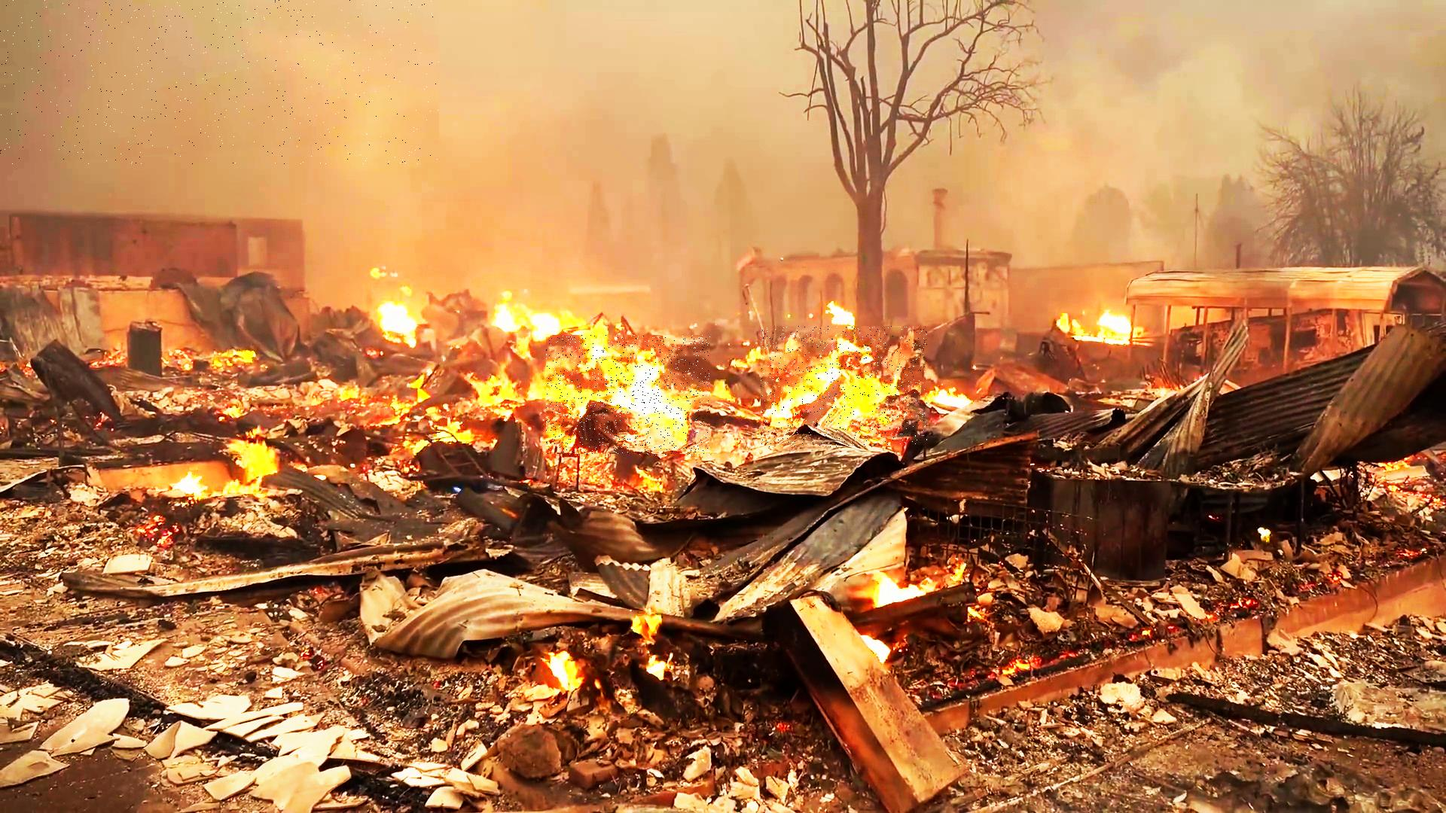fire: (761, 326, 927, 447), (546, 336, 710, 456)
smoke: (0, 0, 439, 164)
